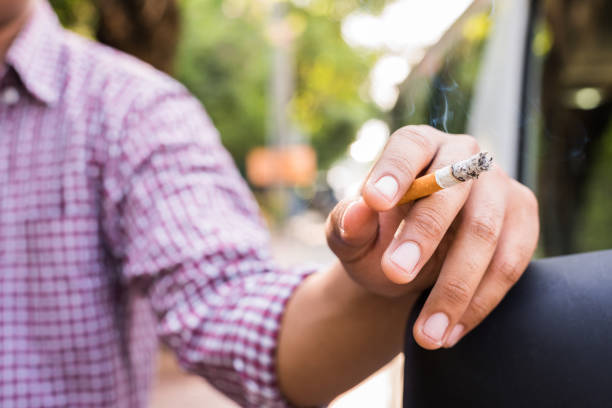cigarette: (395, 153, 493, 203)
